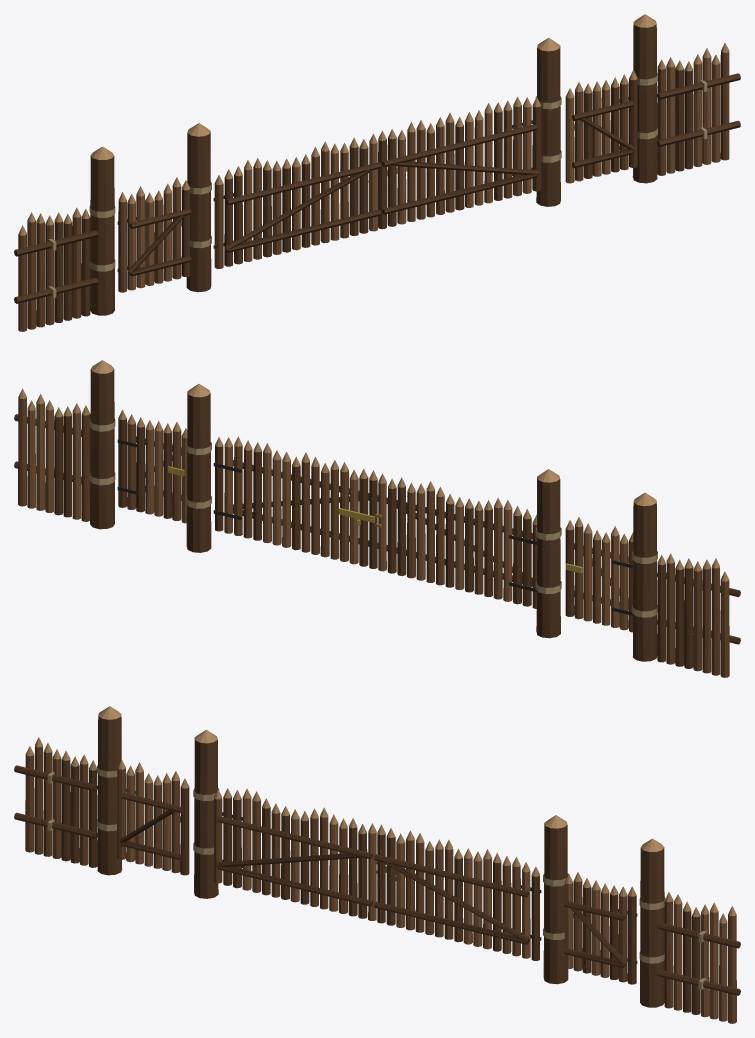
File: fence_gate_road.glb
3 views of the same model, one above another, from view 1: azimuth 30°, elevation 25°; view 2: azimuth 150°, elevation 25°; view 3: azimuth 330°, elevation 25° (orthographic).
Parts seen in each view (by area): view 1: fence_gate_road, leaf_r, leaf_l, side_l, side_r; view 2: fence_gate_road, leaf_r, leaf_l, side_l, side_r; view 3: fence_gate_road, leaf_r, leaf_l, side_l, side_r.
Part boxes in pixels (x1,y1,x2,y2): fence_gate_road: (14, 14, 740, 331); leaf_r: (378, 96, 541, 229); leaf_l: (213, 133, 381, 268); side_l: (117, 177, 191, 292); side_r: (565, 70, 637, 183); fence_gate_road: (14, 360, 740, 677); leaf_r: (213, 436, 378, 568); leaf_l: (375, 473, 536, 608); side_l: (565, 517, 633, 632); side_r: (117, 409, 187, 523); fence_gate_road: (14, 706, 740, 1023); leaf_r: (373, 824, 541, 960); leaf_l: (214, 788, 377, 920); side_l: (117, 759, 189, 875); side_r: (563, 872, 637, 984).
Bounding box in the file's own units: 12 × 2.6 × 0.45.
